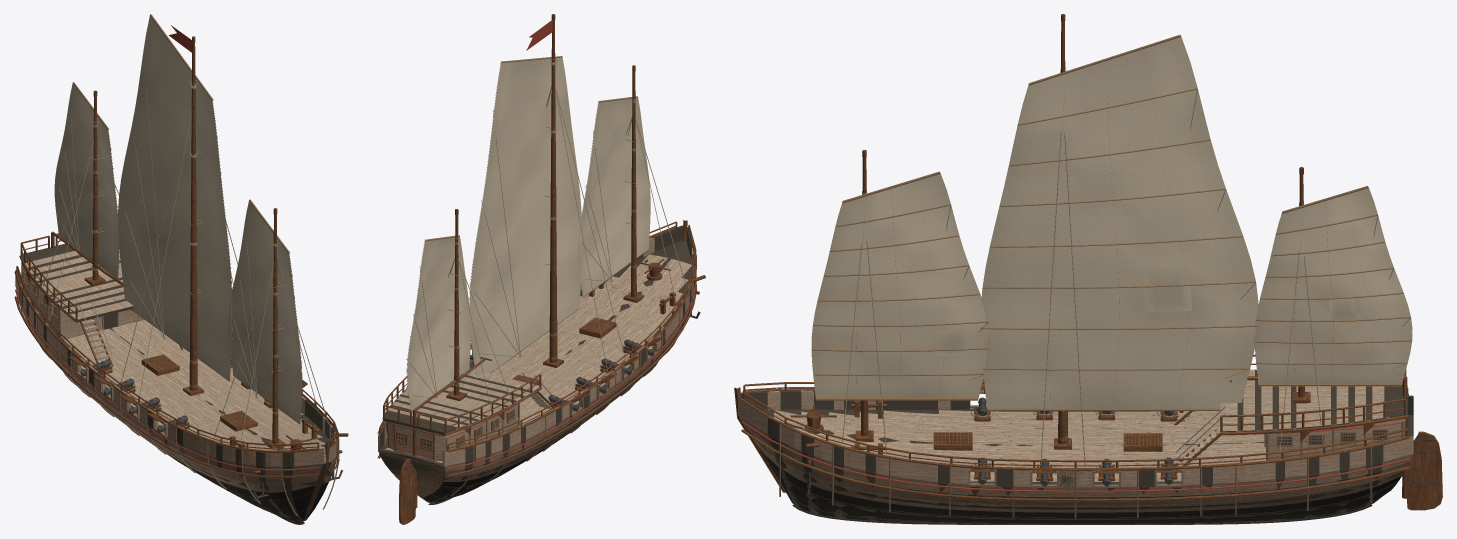
The model's file is fuchuan-lod2.glb.
3 renders of one model, left to right at view 1: azimuth 30°, elevation 25°; view 2: azimuth 150°, elevation 25°; view 3: azimuth 270°, elevation 25°, orthographic. The views are drawn at different scales.
Visible parts, largest first — view 1: sail_1, deck, hull, sail_0, sail_2, shadow_hull, deck_fittings, bulwark_rails, mast_timber_1, shadow_deck, sterncastle, mast_timber_0 (+6 smaller); view 2: sail_1, deck, sail_0, hull, sail_2, shadow_hull, deck_fittings, bulwark_rails, mast_timber_1, shadow_deck, mast_timber_0, stern_transom (+7 smaller); view 3: sail_1, hull, sail_0, sail_2, deck, shadow_hull, deck_fittings, bulwark_rails, shadow_deck, rudder_blade, sterncastle, rigging_1.
Part boxes in pixels (left/top/right/bottom): sail_1: left=118, top=14, right=232, bottom=381; deck: left=19, top=251, right=325, bottom=450; hull: left=14, top=270, right=339, bottom=524; sail_0: left=228, top=199, right=302, bottom=424; sail_2: left=54, top=82, right=119, bottom=278; shadow_hull: left=15, top=270, right=337, bottom=522; deck_fittings: left=21, top=262, right=348, bottom=498; bulwark_rails: left=16, top=233, right=338, bottom=453; mast_timber_1: left=189, top=43, right=197, bottom=390; shadow_deck: left=21, top=243, right=133, bottom=322; sterncastle: left=23, top=266, right=144, bottom=339; mast_timber_0: left=272, top=214, right=278, bottom=443; sail_1: left=469, top=56, right=582, bottom=378; deck: left=382, top=254, right=691, bottom=463; sail_0: left=578, top=96, right=650, bottom=297; hull: left=377, top=220, right=697, bottom=504; sail_2: left=406, top=235, right=470, bottom=411; shadow_hull: left=378, top=225, right=695, bottom=502; deck_fittings: left=383, top=258, right=705, bottom=460; bulwark_rails: left=379, top=221, right=695, bottom=450; mast_timber_1: left=549, top=20, right=557, bottom=362; shadow_deck: left=383, top=374, right=540, bottom=435; mast_timber_0: left=631, top=71, right=636, bottom=297; stern_transom: left=388, top=422, right=444, bottom=458; sail_1: left=980, top=35, right=1258, bottom=411; hull: left=734, top=387, right=1413, bottom=524; sail_0: left=811, top=171, right=989, bottom=400; sail_2: left=1254, top=186, right=1412, bottom=386; deck: left=774, top=369, right=1407, bottom=481; shadow_hull: left=738, top=390, right=1413, bottom=523; deck_fittings: left=790, top=385, right=1407, bottom=494; bulwark_rails: left=743, top=354, right=1408, bottom=467; shadow_deck: left=1220, top=369, right=1407, bottom=432; rudder_blade: left=1406, top=431, right=1442, bottom=510; sterncastle: left=1266, top=418, right=1404, bottom=460; rigging_1: left=1040, top=132, right=1085, bottom=465.
Size of the model in its own units: 10.4 by 26.66 by 33.57.
Materials: 13 (8 with a texture image).
